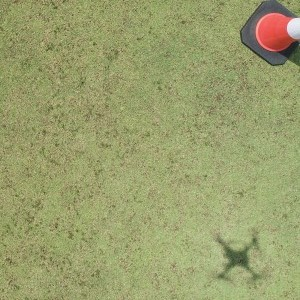traffic cone: (239, 1, 300, 65)
